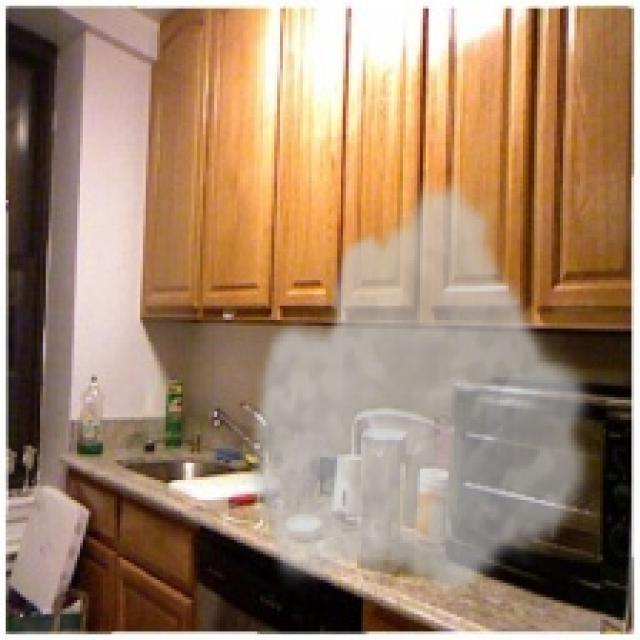Smoke: (243, 174, 600, 597)
